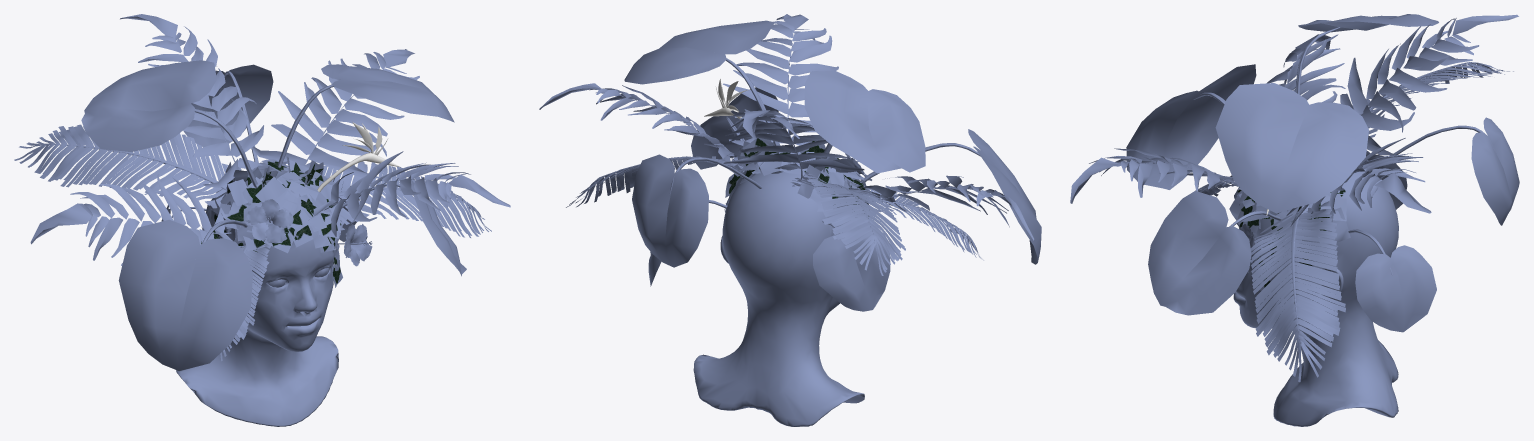
File: website_avatar_faceplant_v4.gltf
3 renders of one model, left to right at view 1: azimuth 30°, elevation 25°; view 2: azimuth 150°, elevation 25°; view 3: azimuth 270°, elevation 25°, orthographic. The views are drawn at different scales.
Visible parts, largest first — view 1: BASEFACE, Monstera1_2, Monstera6_2, PALM_0_2, ivy10, Baby_Fern_Mesh_4, Baby_Fern_Mesh_2, Baby_Fern_Mesh, Baby_Fern_Mesh_3, Monstera7_2, PALM_0_3, Monstera2_2 (+5 smaller); view 2: BASEFACE, Monstera6_2, Monstera2_2, Monstera7_2, Baby_Fern_Mesh_3, PALM_0_2, Monstera5_2, Baby_Fern_Mesh, ivy10, Baby_Fern_Mesh_2, Baby_Fern_Mesh_4, Monstera1_2 (+4 smaller); view 3: BASEFACE, Monstera7_2, PALM_0_3, Monstera3_2, Monstera1_2, Baby_Fern_Mesh, Monstera4_2, Monstera2_2, ivy10, Baby_Fern_Mesh_4, Baby_Fern_Mesh_3, Baby_Fern_Mesh_2 (+2 smaller).
Part boxes in pixels (x1,y1,x2,y2): BASEFACE: [176, 189, 338, 426]; Monstera1_2: [118, 219, 252, 370]; Monstera6_2: [81, 60, 257, 188]; PALM_0_2: [14, 124, 236, 208]; ivy10: [201, 156, 347, 287]; Baby_Fern_Mesh_4: [251, 49, 419, 178]; Baby_Fern_Mesh_2: [30, 174, 232, 265]; Baby_Fern_Mesh: [120, 14, 263, 187]; Baby_Fern_Mesh_3: [314, 151, 510, 237]; Monstera7_2: [277, 64, 454, 167]; PALM_0_3: [322, 161, 491, 237]; Monstera2_2: [183, 64, 273, 163]; BASEFACE: [693, 169, 864, 426]; Monstera6_2: [804, 70, 925, 173]; Monstera2_2: [632, 154, 762, 267]; Monstera7_2: [624, 20, 782, 153]; Baby_Fern_Mesh_3: [723, 14, 838, 145]; PALM_0_2: [791, 172, 905, 275]; Monstera5_2: [813, 221, 890, 311]; Baby_Fern_Mesh: [724, 109, 864, 179]; ivy10: [724, 138, 869, 236]; Baby_Fern_Mesh_2: [848, 175, 1034, 240]; Baby_Fern_Mesh_4: [539, 83, 760, 173]; Monstera1_2: [855, 129, 1041, 264]; BASEFACE: [1233, 168, 1398, 426]; Monstera7_2: [1215, 83, 1368, 213]; PALM_0_3: [1250, 201, 1345, 382]; Monstera3_2: [1148, 191, 1281, 315]; Monstera1_2: [1126, 64, 1256, 189]; Baby_Fern_Mesh: [1340, 14, 1518, 155]; Monstera4_2: [1348, 229, 1436, 332]; Monstera2_2: [1362, 117, 1519, 225]; ivy10: [1229, 182, 1350, 295]; Baby_Fern_Mesh_4: [1286, 138, 1431, 226]; Baby_Fern_Mesh_3: [1070, 148, 1239, 203]; Baby_Fern_Mesh_2: [1231, 34, 1345, 186].
Size of the model in its own units: 379 by 278 by 302.
Materials: 40 (1 with a texture image).
